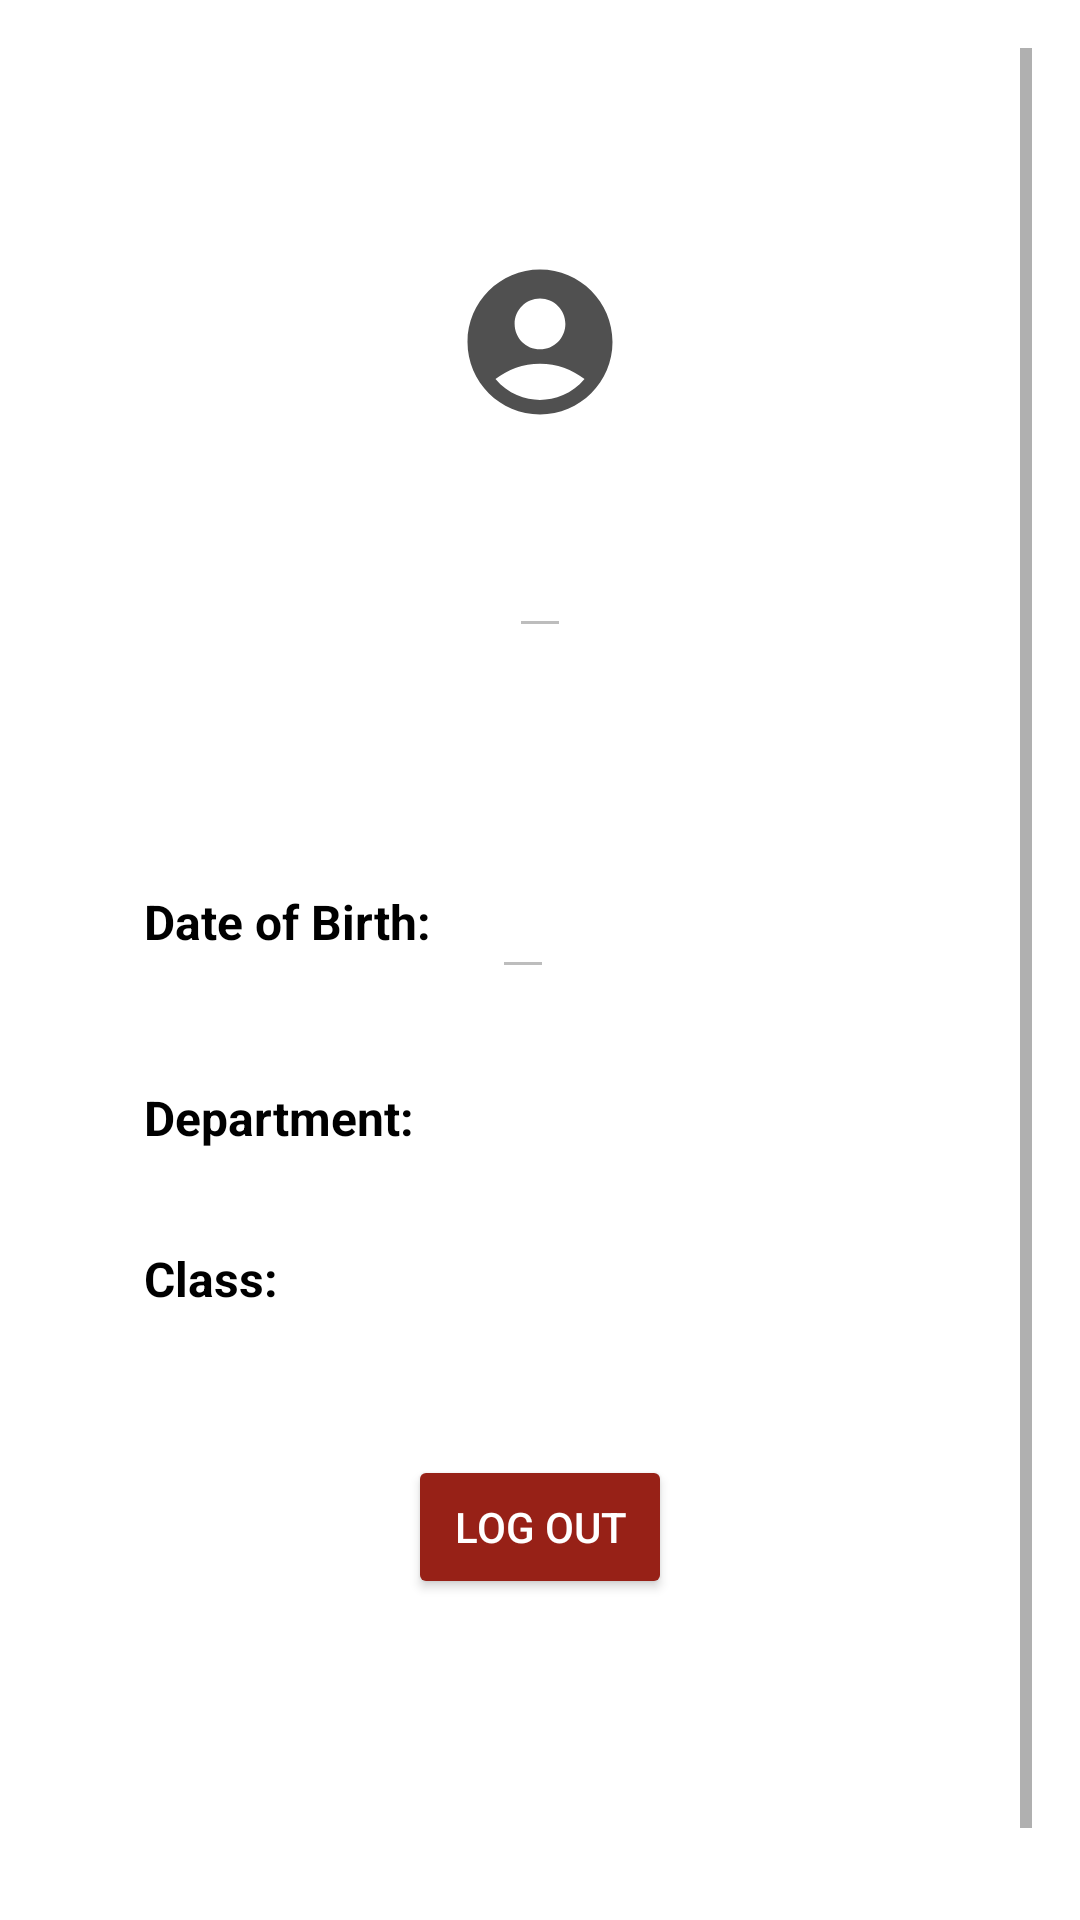

Icons on this 1080×1920 Android screen, each with the point to tap as point (x, y):
profile: point (540, 342)
